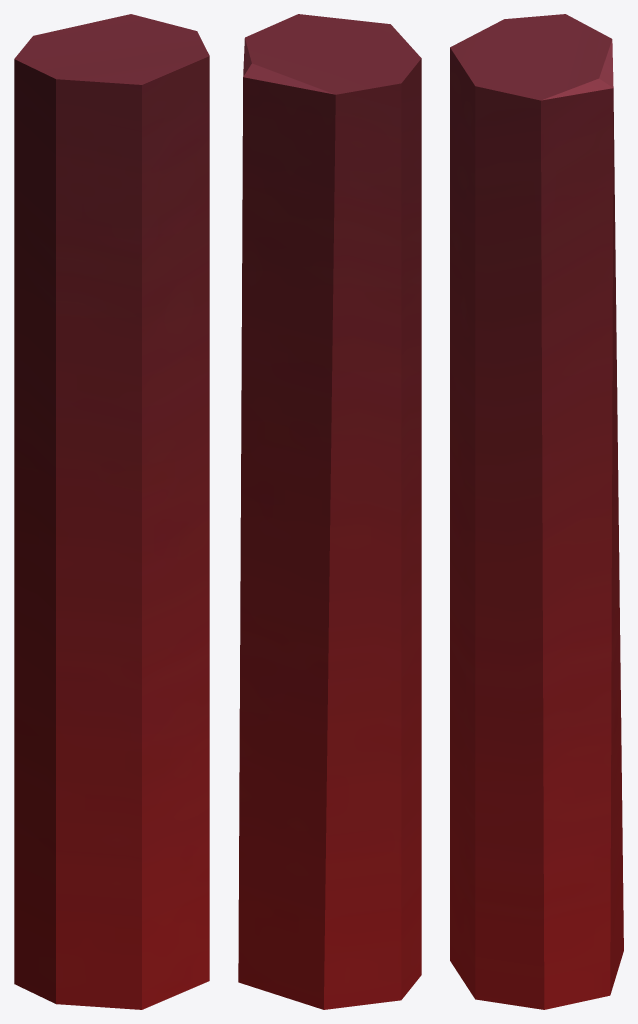
Rendered from rock_004.fbx.
3 renders of one model, left to right at view 1: azimuth 30°, elevation 25°; view 2: azimuth 150°, elevation 25°; view 3: azimuth 270°, elevation 25°, orthographic.
Parts seen in each view (by area): view 1: rock_004; view 2: rock_004; view 3: rock_004.
Part boxes in pixels (left/top/right/bottom): rock_004: left=14, top=14, right=209, bottom=1009; rock_004: left=238, top=14, right=421, bottom=1009; rock_004: left=450, top=14, right=623, bottom=1009.
Bounding box in the file's own units: 39.16 × 202 × 34.83.
